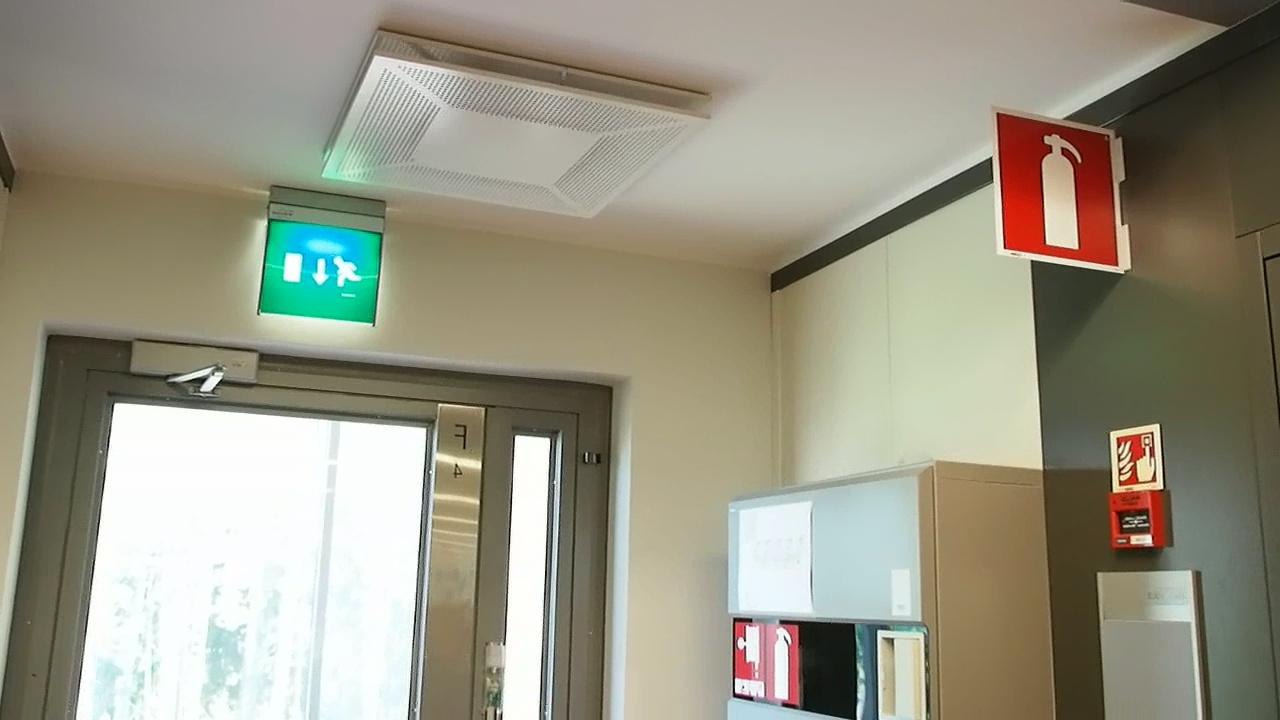exit: (253, 217, 380, 327)
fireextinguisher: (1003, 116, 1122, 264)
